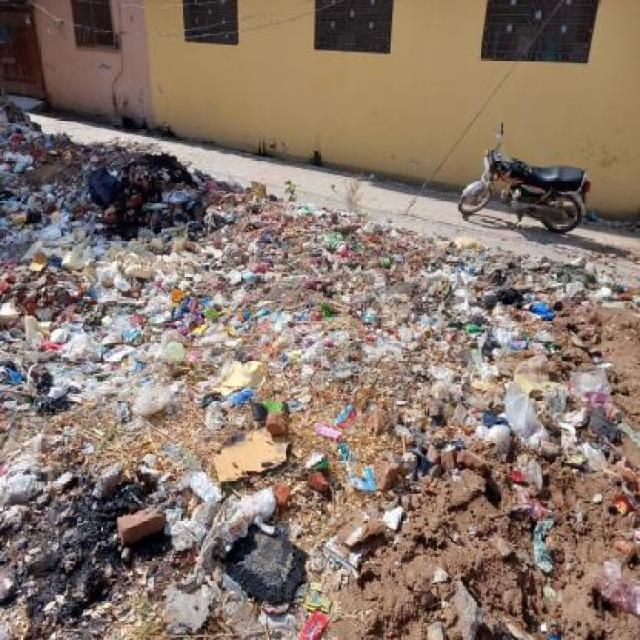garbage: (0, 74, 408, 632), (414, 233, 640, 640), (588, 206, 640, 224)
